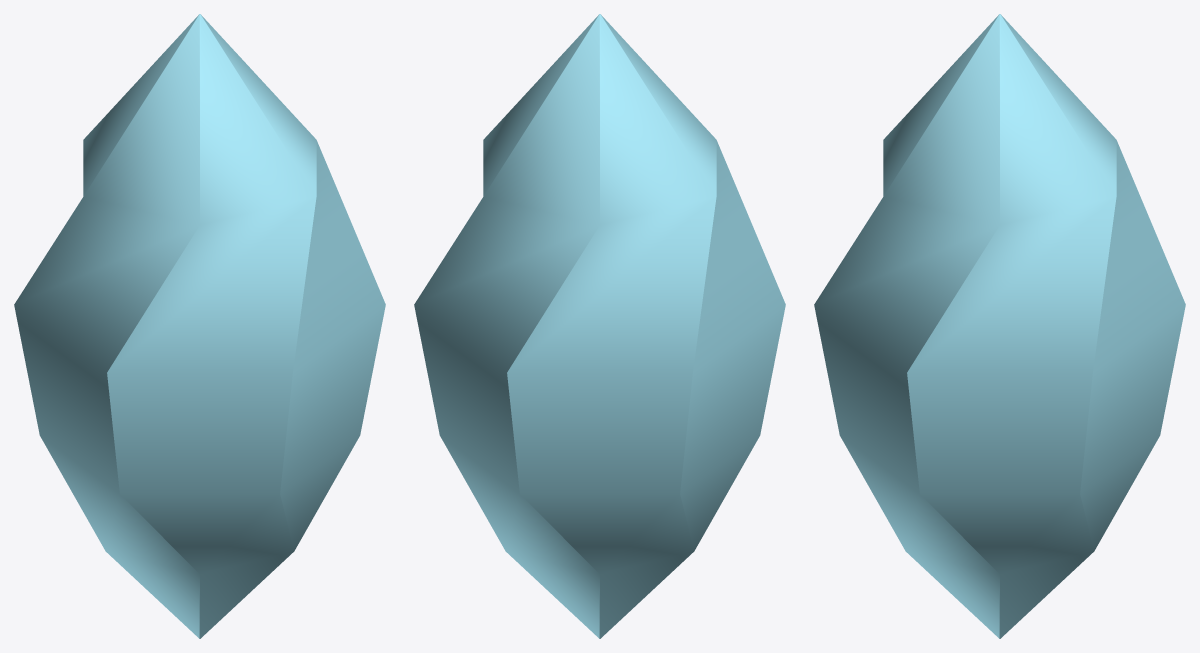
File: Monument_Crystal.fbx
3 renders of one model, left to right at view 1: azimuth 30°, elevation 25°; view 2: azimuth 150°, elevation 25°; view 3: azimuth 270°, elevation 25°, orthographic.
Visible parts, largest first — view 1: Monument_Crystal_LOD0; view 2: Monument_Crystal_LOD0; view 3: Monument_Crystal_LOD0.
Part boxes in pixels (box(x1,y1,x2,y2)): Monument_Crystal_LOD0: box(14, 14, 385, 638); Monument_Crystal_LOD0: box(414, 14, 785, 638); Monument_Crystal_LOD0: box(814, 14, 1185, 638).
Size of what is drawn, in the model's own units: 1 by 2.15 by 1.16.
